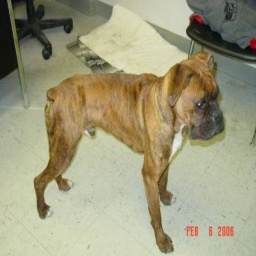dog: (35, 49, 226, 253)
